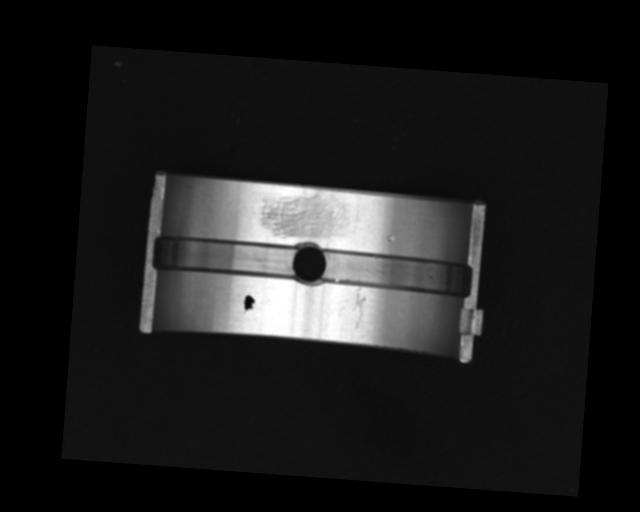blot: (241, 293, 256, 316)
bruise: (384, 234, 396, 243)
gap: (318, 246, 471, 299), (151, 234, 299, 281)
hole: (290, 241, 328, 288)
nick: (350, 286, 367, 332)
scratch: (257, 185, 353, 242)
